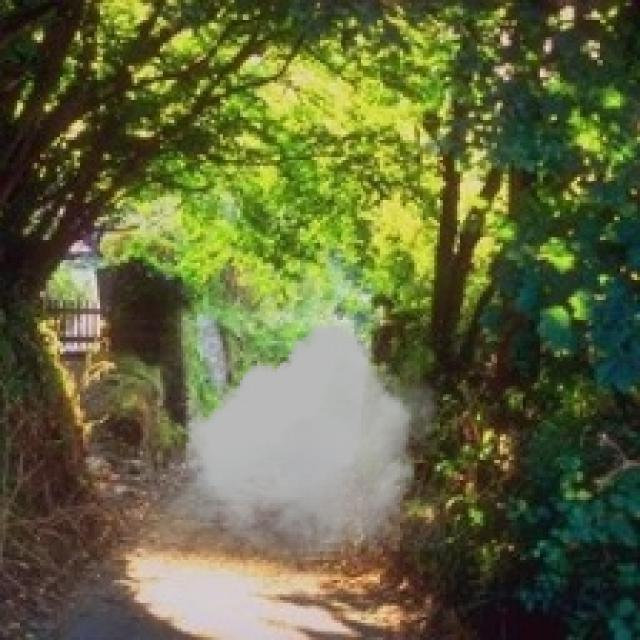Smoke: (180, 323, 446, 551)
